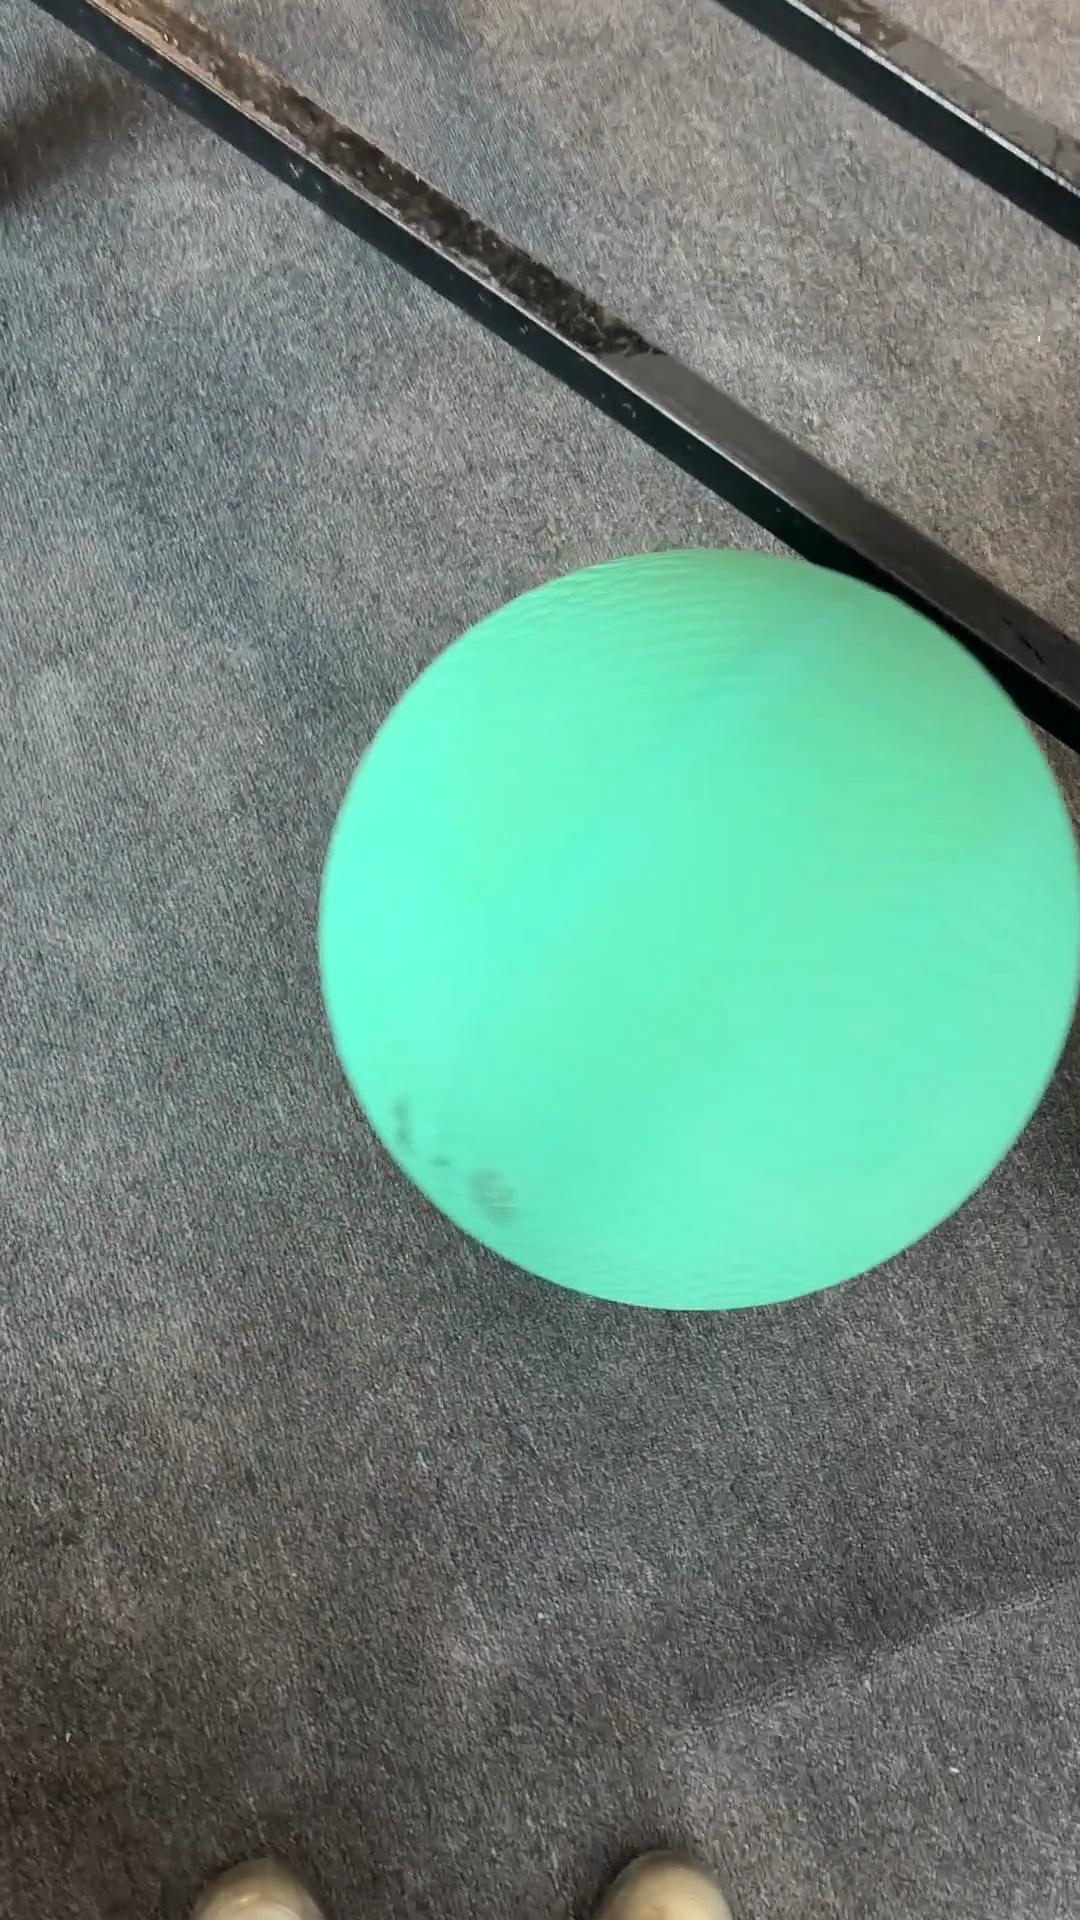ALGAE: (313, 545, 1077, 1313)
